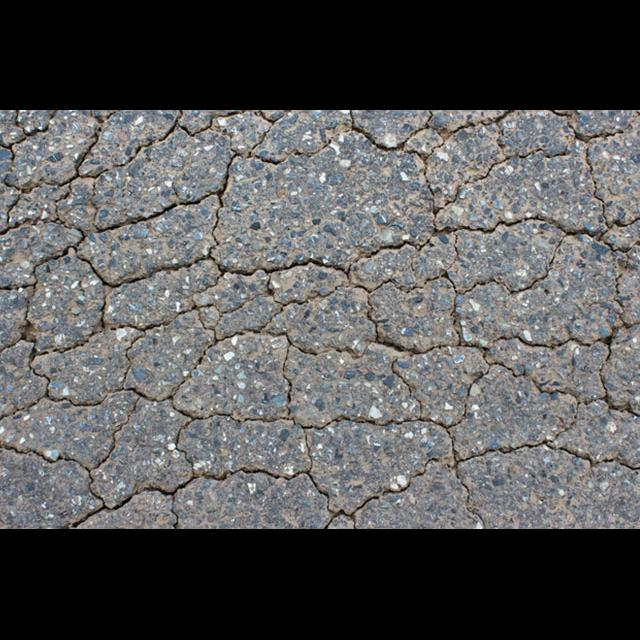retak_kulit_buaya: (0, 110, 640, 529)
